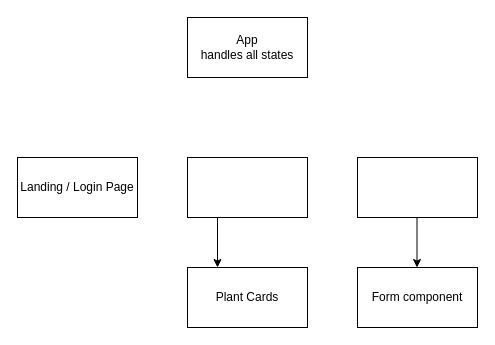
Some shapes in this 495 by 345 pixel diagram are drawn without their labels. The shapes that lost their labels are listed below. From the top down, each one's box as (x1, y1, x2, y2) in pixels, then its label:
(186, 156, 308, 218): Dashboard
(356, 156, 478, 218): Form Page
